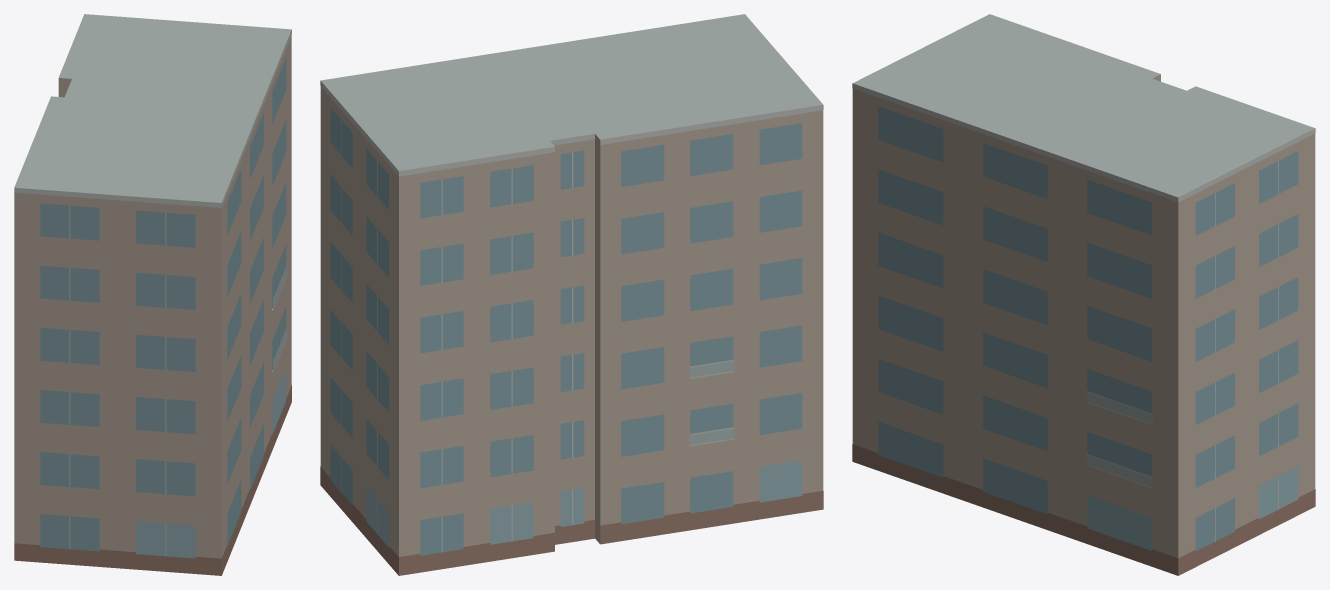
Rendered from survey-upis-32984324.glb.
3 renders of one model, left to right at view 1: azimuth 30°, elevation 25°; view 2: azimuth 150°, elevation 25°; view 3: azimuth 270°, elevation 25°, orthographic. The views are drawn at different scales.
Parts seen in each view (by area): view 1: survey-upis-32984324.tmp; view 2: survey-upis-32984324.tmp; view 3: survey-upis-32984324.tmp.
Part boxes in pixels (x1,y1,x2,y2): survey-upis-32984324.tmp: (14,14,291,575); survey-upis-32984324.tmp: (320,14,823,575); survey-upis-32984324.tmp: (852,14,1315,575).
Bounding box in the file's own units: 19.04 × 18.3 × 20.29.
